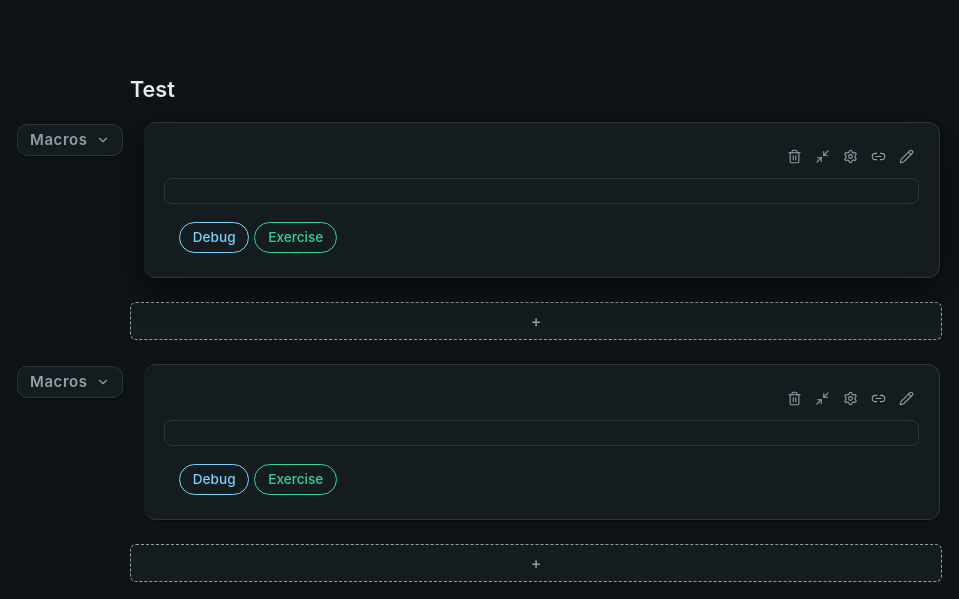
Test: pill toggles open on the first click, even unfocused
The image size is (959, 599).
Click the 2nd button with class "macro-dock--head" at (70,382), box [17,366,123,398]
(page scrolled)
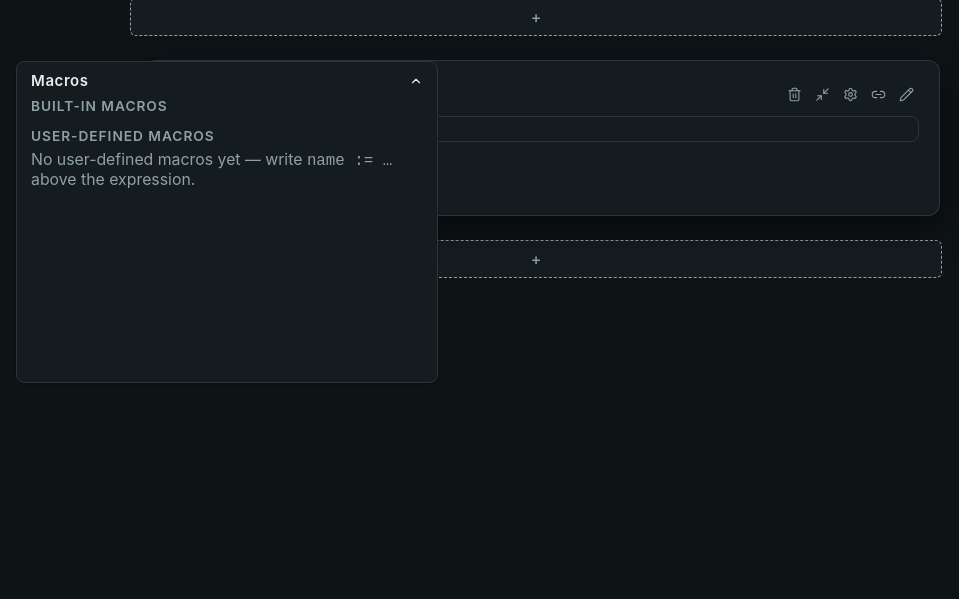
Check: the element with class "macro-dock--open" is shown, box [16,61,438,383]
